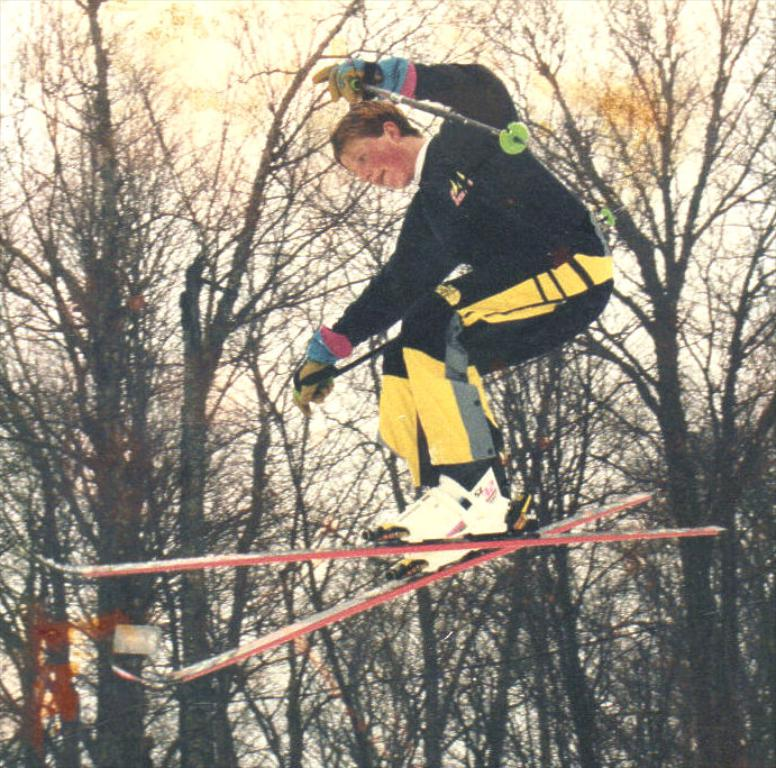Person: (291, 55, 614, 575)
